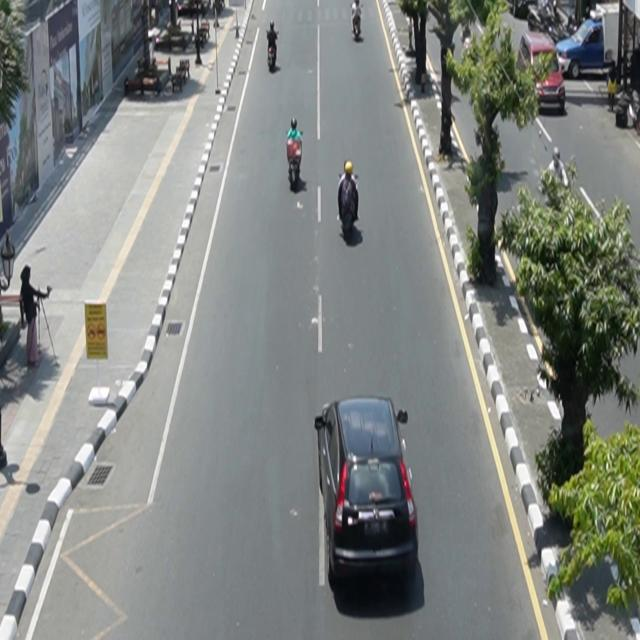car: (315, 396, 419, 587), (517, 31, 567, 114)
